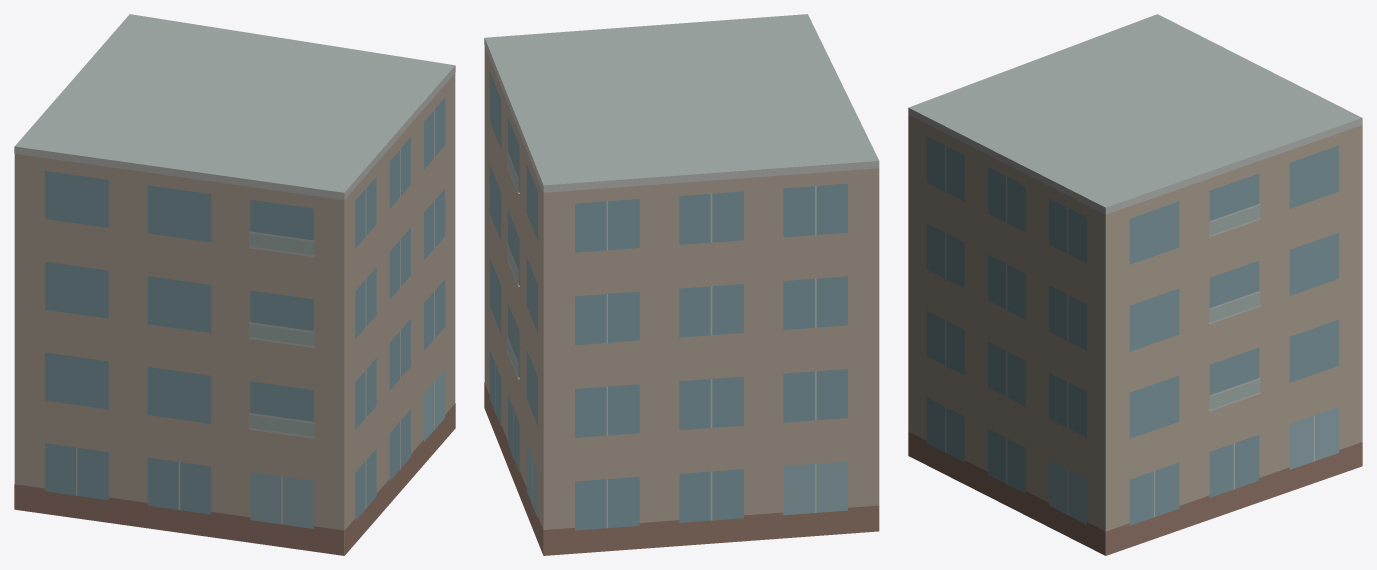
File: survey-upis-32844863.glb
3 renders of one model, left to right at view 1: azimuth 30°, elevation 25°; view 2: azimuth 150°, elevation 25°; view 3: azimuth 270°, elevation 25°, orthographic. The views are drawn at different scales.
Parts seen in each view (by area): view 1: survey-upis-32844863.tmp; view 2: survey-upis-32844863.tmp; view 3: survey-upis-32844863.tmp.
Part boxes in pixels (x1,y1,x2,y2): survey-upis-32844863.tmp: (14,14,455,555); survey-upis-32844863.tmp: (484,14,879,555); survey-upis-32844863.tmp: (908,14,1362,555).
Bounding box in the file's own units: 14.57 × 12.2 × 14.44.
